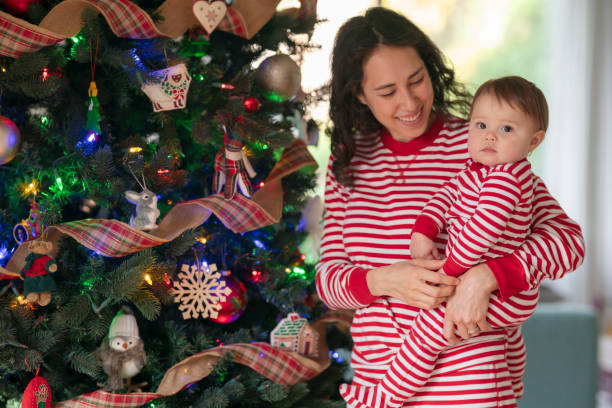face: (364, 63, 433, 141), (470, 108, 528, 165)
